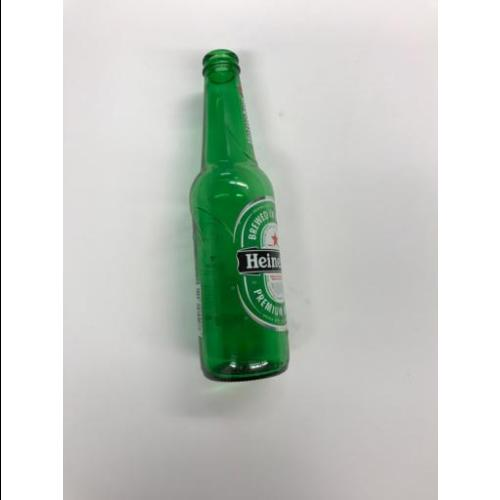glass: (190, 50, 290, 380)
